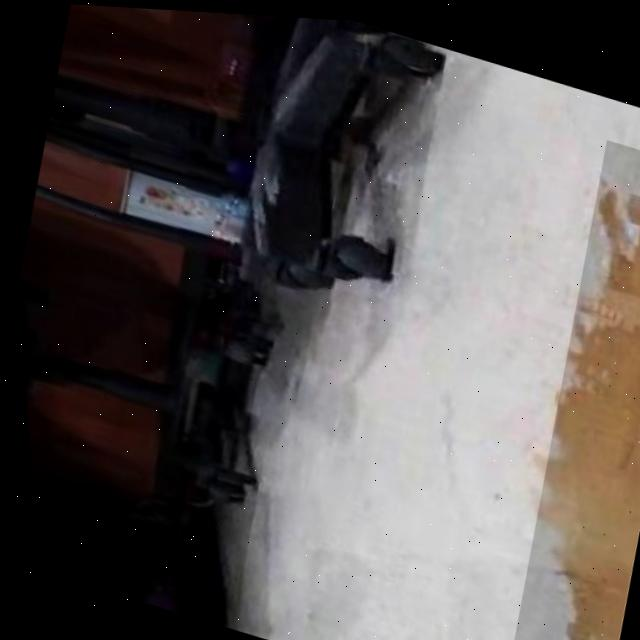spillage: (535, 203, 640, 640)
